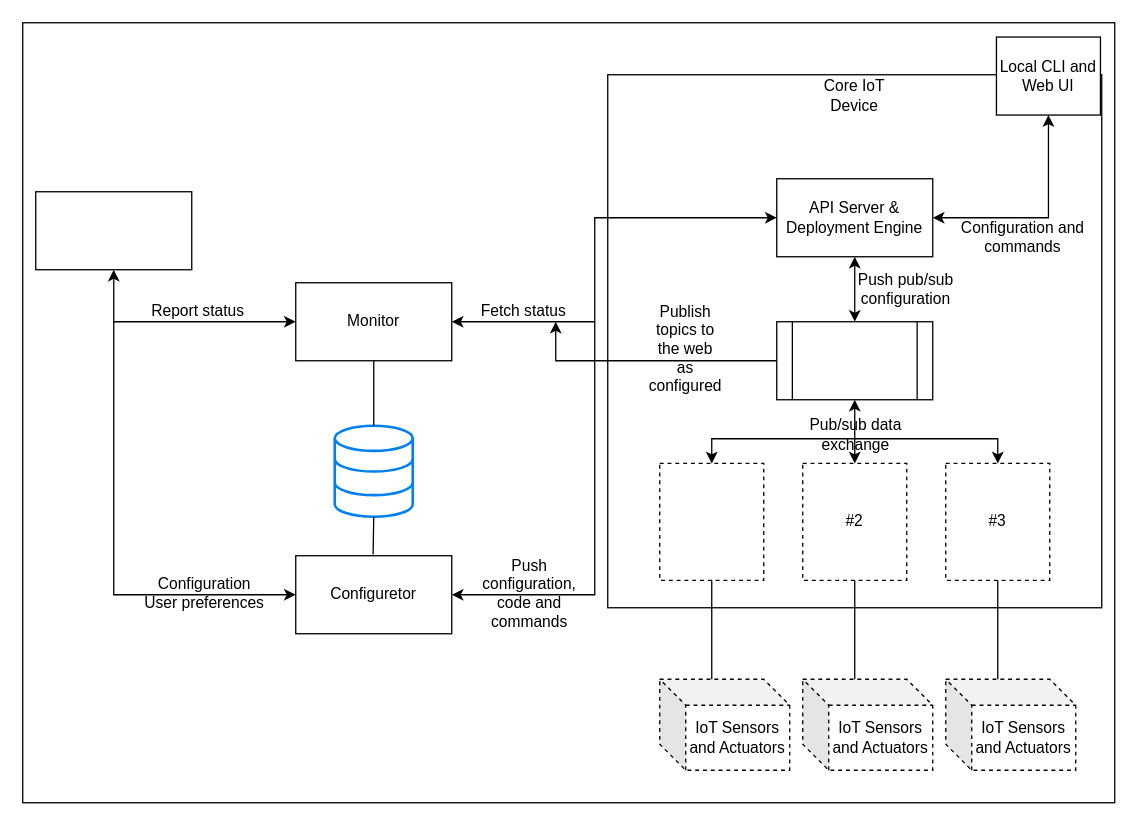
Image size: 1138x826. Some labels were removed from this diagram. Each missing label, with the centre of its shape:
"Data Xchange" goes at (854,360).
"DB" goes at (373,470).
"FaaS on IoT Web app" goes at (113,230).
"User Defined Module #1" goes at (711,521).
